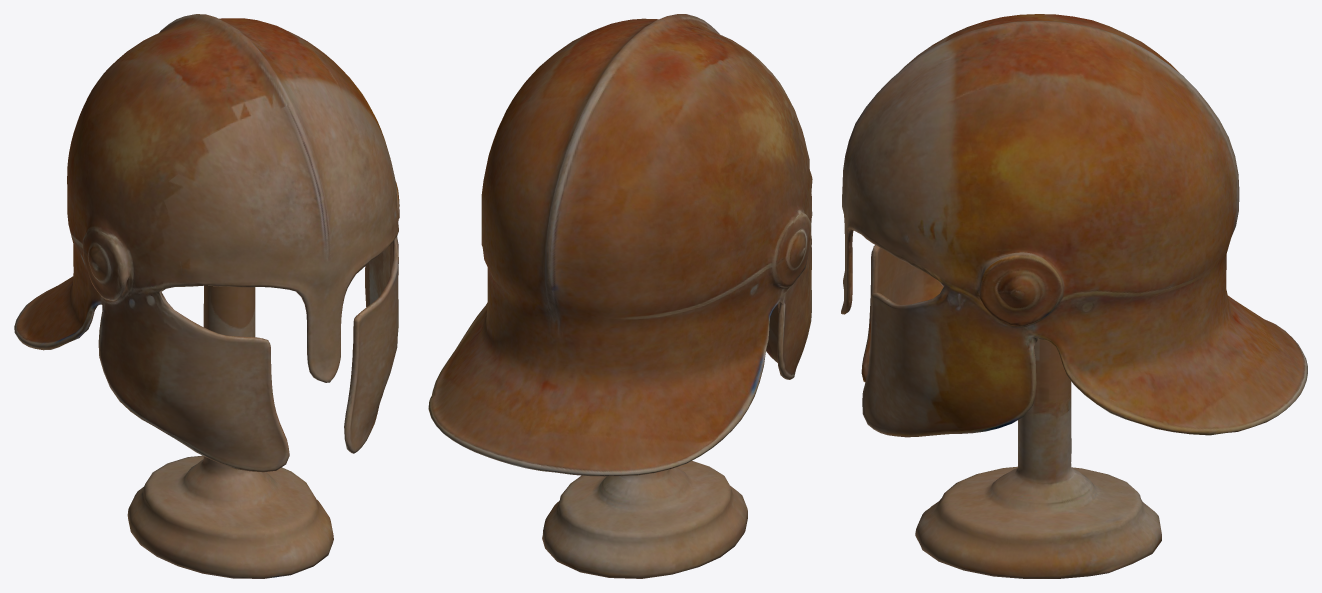
File: Bronze Helmet.glb
3 views of the same model, side by side, from view 1: azimuth 30°, elevation 25°; view 2: azimuth 150°, elevation 25°; view 3: azimuth 270°, elevation 25° (orthographic). The views are drawn at different scales.
Parts seen in each view (by area): view 1: file1; view 2: file1; view 3: file1.
Part boxes in pixels (x1=…): file1: x1=14, y1=14, x2=399, y2=578; file1: x1=428, y1=14, x2=812, y2=578; file1: x1=841, y1=14, x2=1307, y2=578.
Size of the model in its own units: 1.23 by 2 by 1.63.
1 material, 1 textured.
